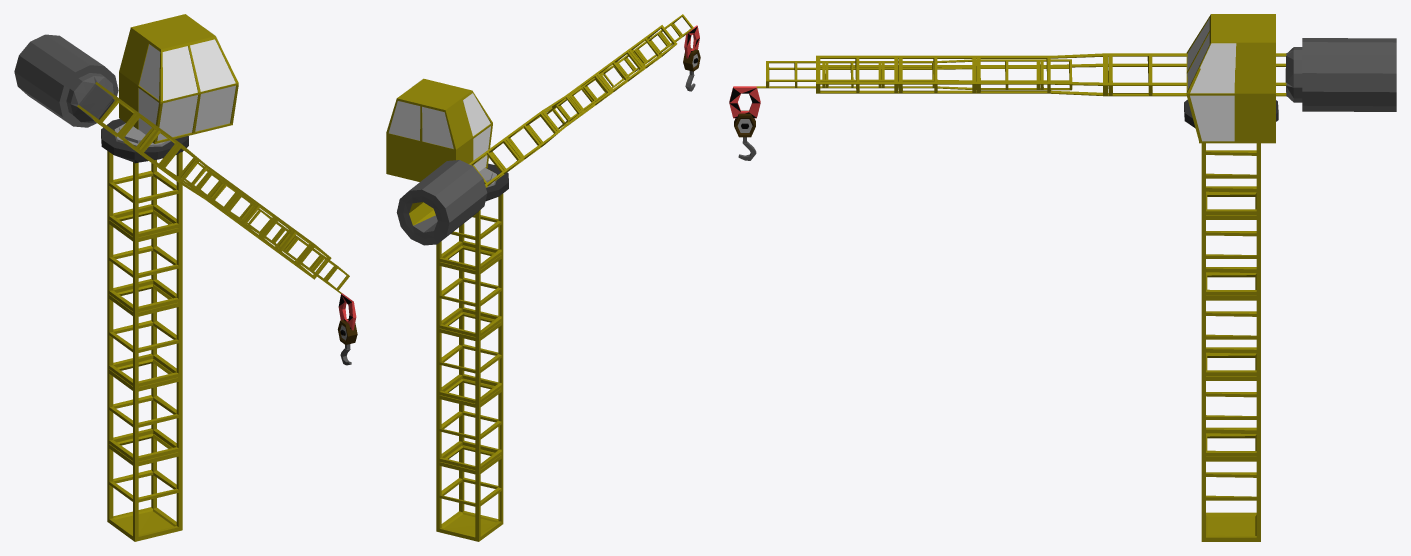
Rendered from kran.fbx.
3 views of the same model, side by side, from view 1: azimuth 30°, elevation 25°; view 2: azimuth 150°, elevation 25°; view 3: azimuth 270°, elevation 25° (orthographic). The views are drawn at different scales.
Parts seen in each view (by area): view 1: Cube, Cube.006, Cube.002, Cube.001, Cube.007, Cube.004, Cube.008, Cylinder; view 2: Cube, Cube.006, Cube.001, Cube.005, Cube.007, Cube.004, Cube.008; view 3: Cube.006, Cube, Cube.001, Cube.007, Cube.003.
Boxes of the visible parts, <box> form: Cube: <box>101,118,188,541</box>; Cube.006: <box>14,34,331,279</box>; Cube.002: <box>157,39,235,140</box>; Cube.001: <box>119,14,238,143</box>; Cube.007: <box>182,160,356,330</box>; Cube.004: <box>138,44,160,134</box>; Cube.008: <box>337,319,357,365</box>; Cylinder: <box>114,123,170,146</box>; Cube: <box>436,163,508,541</box>; Cube.006: <box>396,25,677,245</box>; Cube.001: <box>386,78,492,181</box>; Cube.005: <box>389,101,453,148</box>; Cube.007: <box>546,14,699,128</box>; Cube.004: <box>463,93,490,171</box>; Cube.008: <box>683,48,700,91</box>; Cube.006: <box>816,38,1396,111</box>; Cube: <box>1184,99,1278,541</box>; Cube.001: <box>1186,14,1275,143</box>; Cube.007: <box>729,59,1072,118</box>; Cube.003: <box>1190,43,1236,141</box>.
Size of the model in its own units: 464 by 1684 by 1963.
